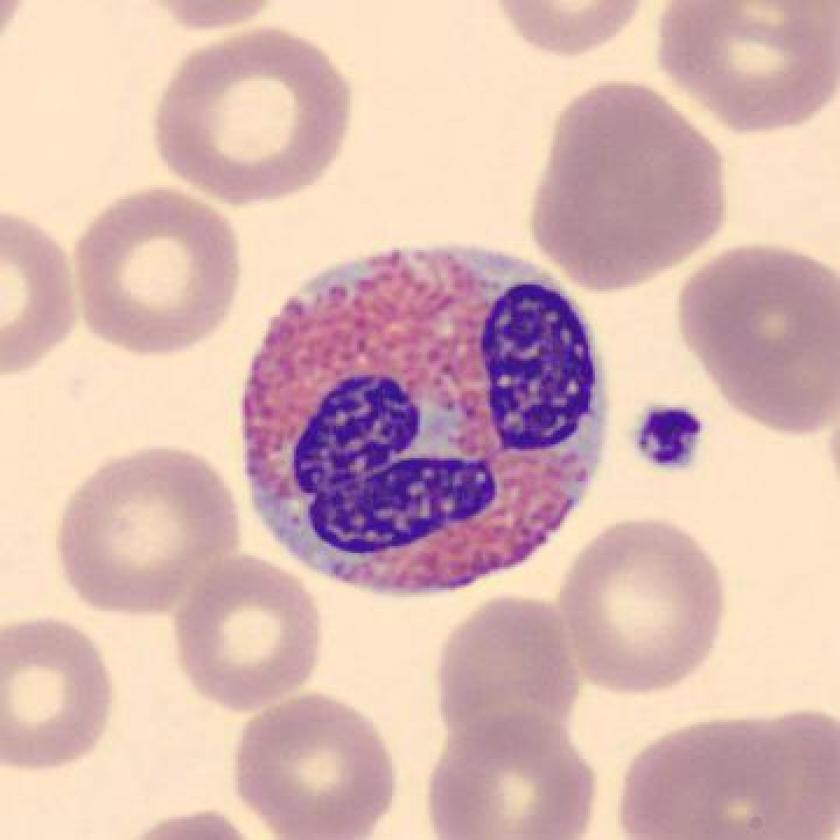eosinophil: (230, 232, 619, 605)
